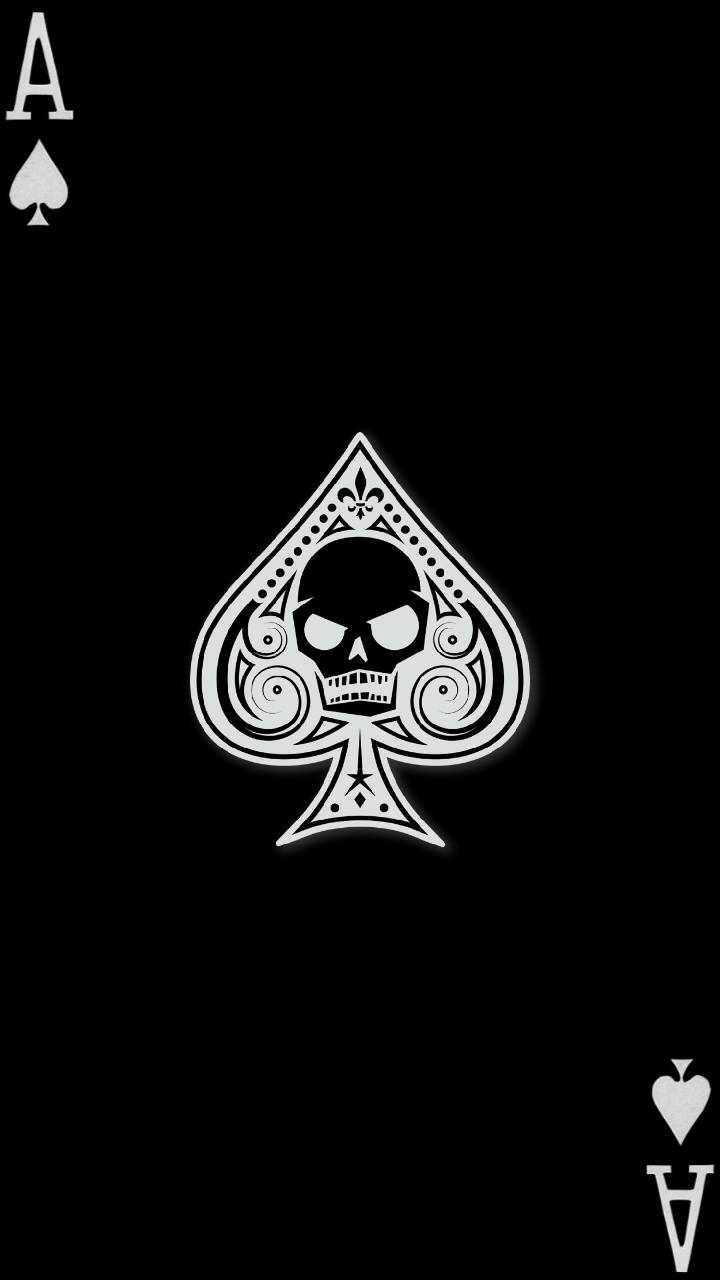ace of spades: (5, 9, 715, 1273)
